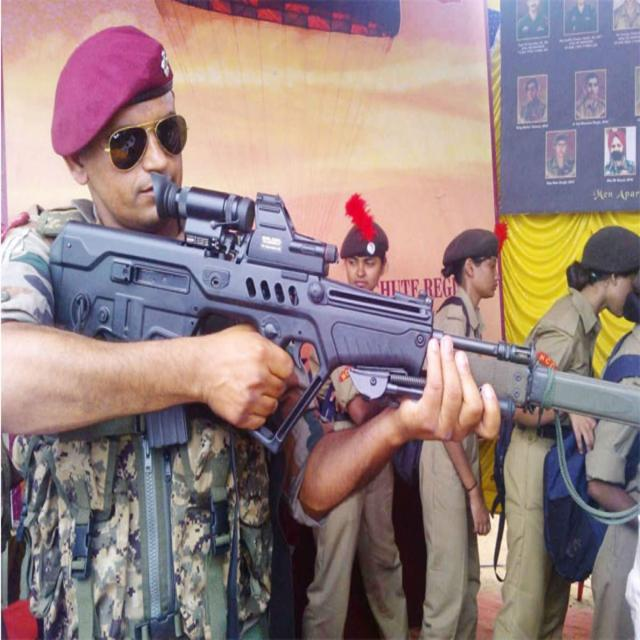Rifle: (50, 188, 640, 453)
